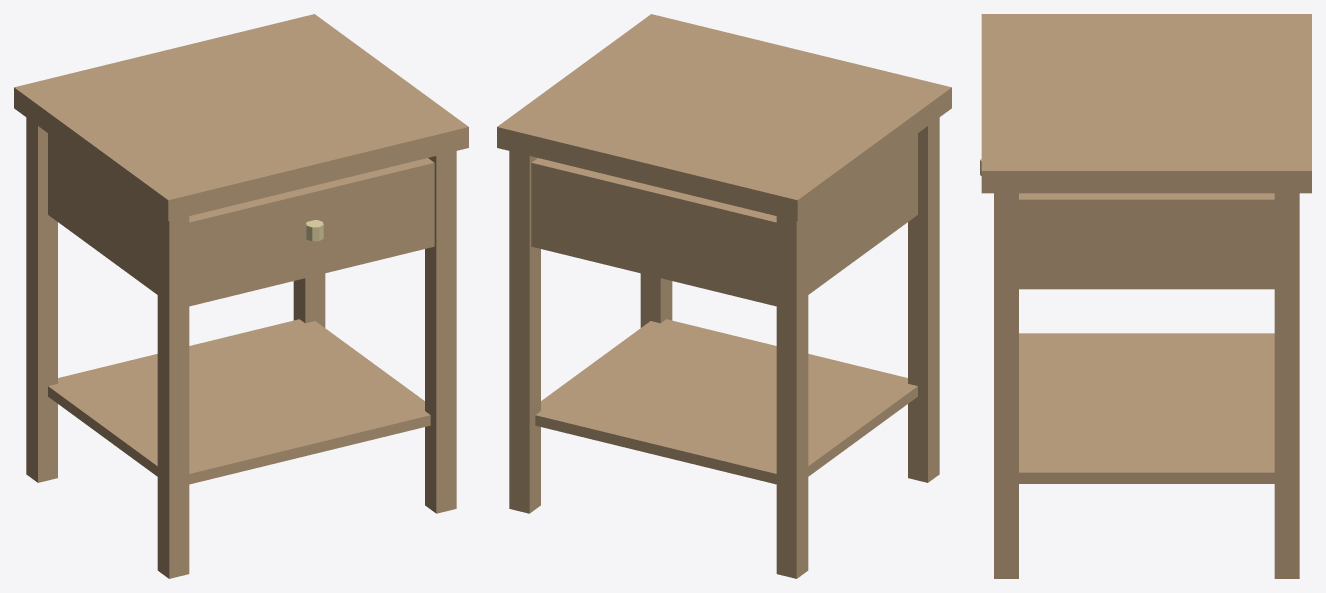
The model's file is table.glb.
3 views of the same model, side by side, from view 1: azimuth 30°, elevation 25°; view 2: azimuth 150°, elevation 25°; view 3: azimuth 270°, elevation 25° (orthographic). The views are drawn at different scales.
Visible parts, largest first — view 1: top, shelf, drawer, leg2, leg3, leg0, leg1; view 2: top, shelf, drawer, leg0, leg1, leg2, leg3; view 3: top, shelf, drawer, leg1, leg3.
Part boxes in pixels (x1,y1,x2,y2): top: (14, 14, 468, 221); shelf: (48, 319, 430, 484); drawer: (48, 133, 434, 306); leg2: (157, 214, 189, 578); leg3: (425, 151, 456, 513); leg0: (26, 117, 57, 482); leg1: (293, 273, 325, 327); top: (497, 14, 951, 221); shelf: (535, 319, 917, 484); drawer: (531, 133, 917, 306); leg0: (776, 214, 808, 578); leg1: (509, 151, 540, 513); leg2: (908, 117, 939, 482); leg3: (640, 273, 672, 327); top: (981, 14, 1311, 193); shelf: (1019, 333, 1274, 483); drawer: (1019, 193, 1274, 289); leg1: (1274, 193, 1299, 578); leg3: (994, 193, 1018, 578).
Size of the model in its own units: 0.45 by 0.55 by 0.402.
